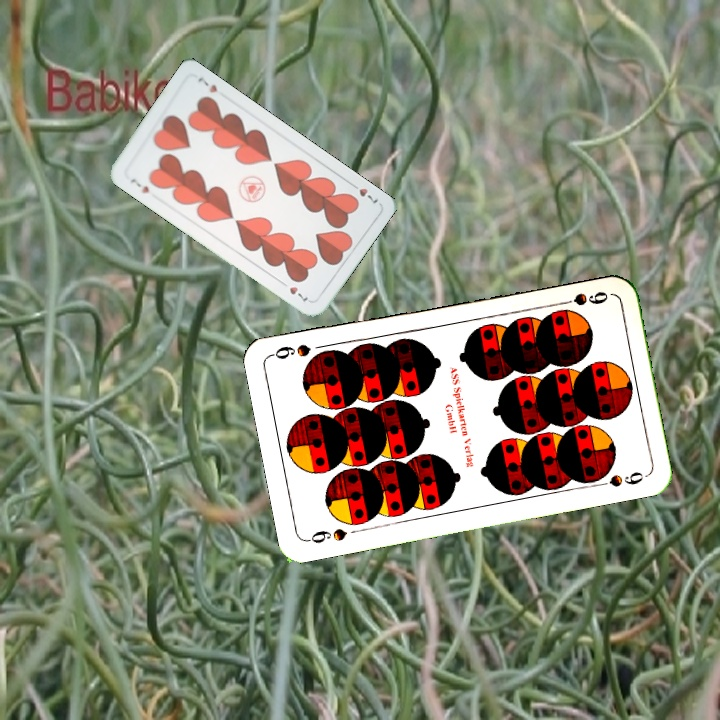H7: (346, 178, 380, 206), (127, 174, 152, 196)
S9: (553, 287, 611, 309), (303, 524, 350, 546)
